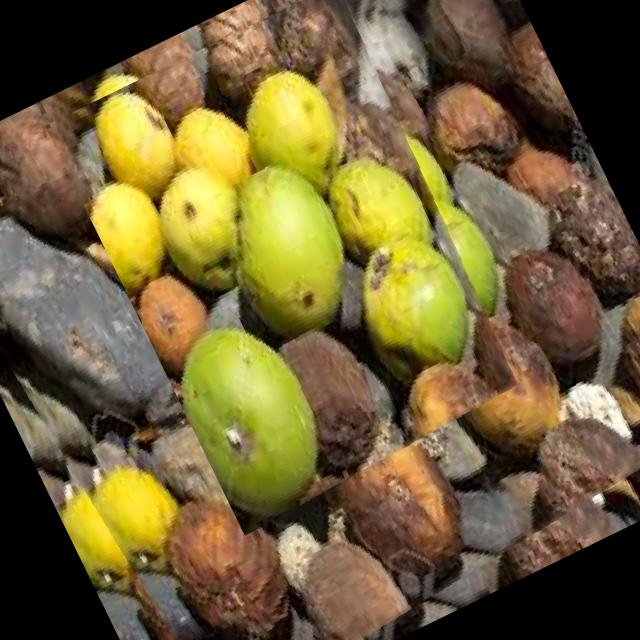Organic: (0, 0, 640, 640), (45, 0, 537, 535)
